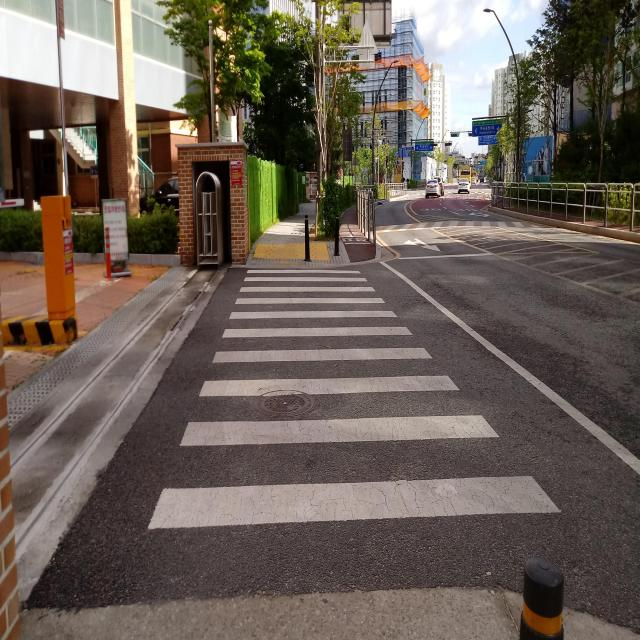횡단보도: (148, 268, 562, 532)
